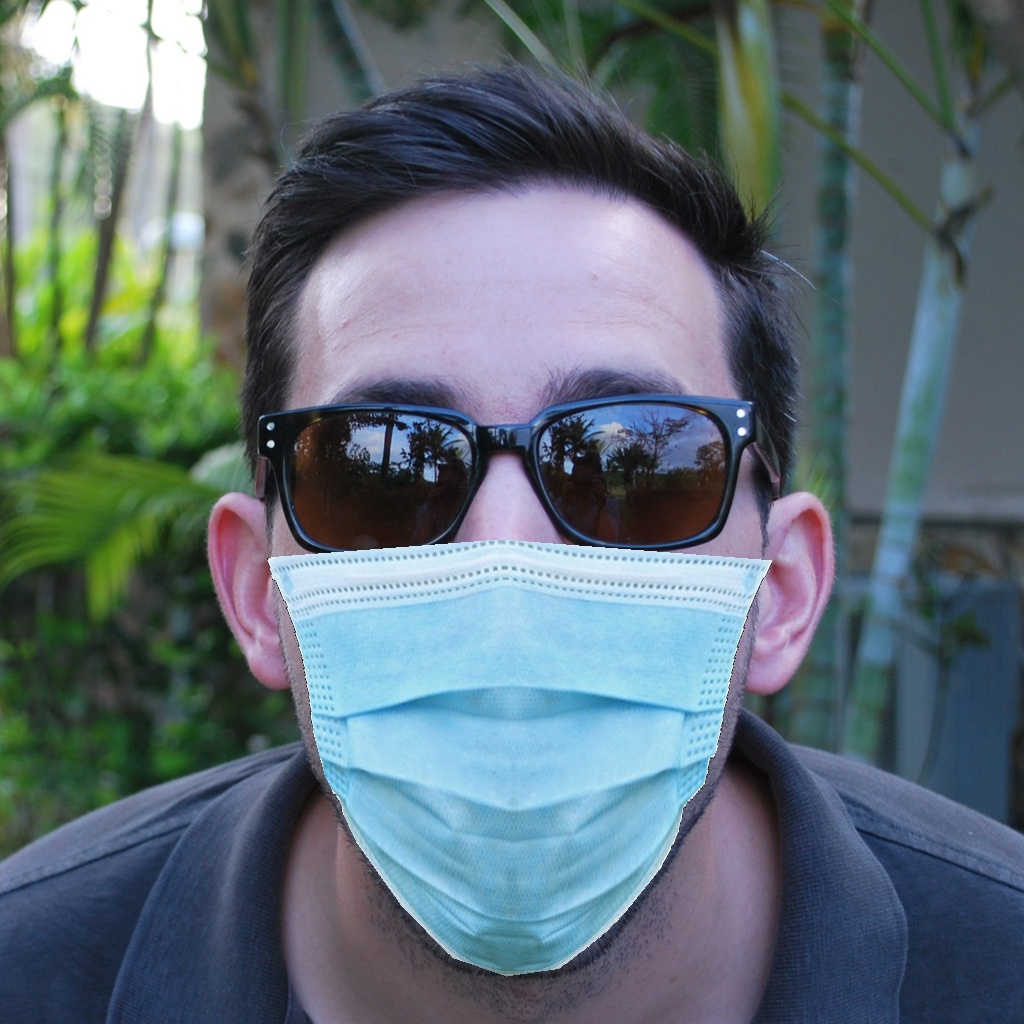Mask: (261, 322, 781, 997)
